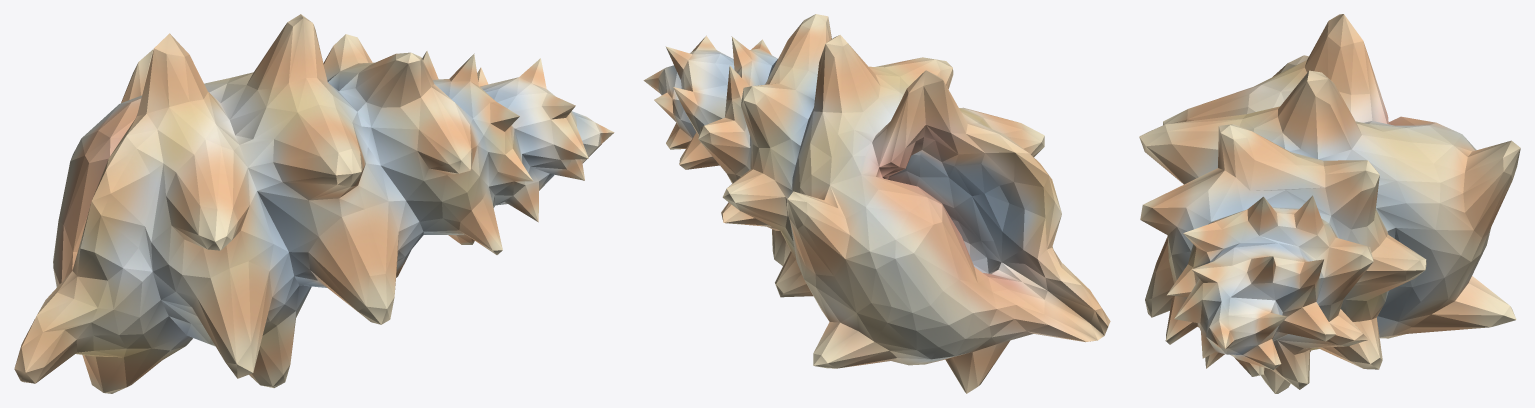
File: conchShell.fbx
3 views of the same model, side by side, from view 1: azimuth 30°, elevation 25°; view 2: azimuth 150°, elevation 25°; view 3: azimuth 270°, elevation 25° (orthographic). The views are drawn at different scales.
Parts seen in each view (by area): view 1: shell; view 2: shell; view 3: shell.
Part boxes in pixels (bbox=[...]): shell: bbox=[14, 14, 614, 393]; shell: bbox=[643, 14, 1110, 393]; shell: bbox=[1139, 14, 1520, 393].
Size of the model in its own units: 42.27 by 24.79 by 25.11.
